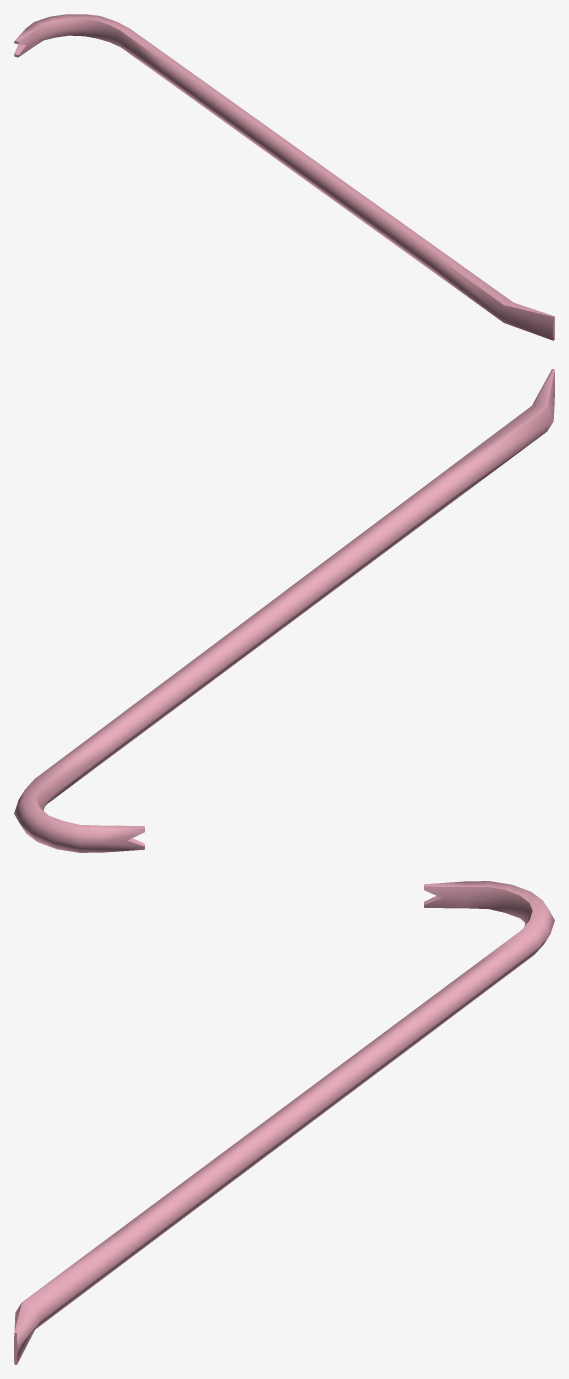
The model's file is Crowbar.fbx.
3 renders of one model, top to bottom at view 1: azimuth 30°, elevation 25°; view 2: azimuth 150°, elevation 25°; view 3: azimuth 330°, elevation 25°, orthographic. The views are drawn at different scales.
Parts seen in each view (by area): view 1: Crowbar; view 2: Crowbar; view 3: Crowbar.
Boxes of the visible parts, x1,y1,x2,y2 form: Crowbar: (14,14,554,340); Crowbar: (14,369,554,852); Crowbar: (14,881,554,1364).
Bounding box in the file's own units: 16.02 × 3.05 × 102.
